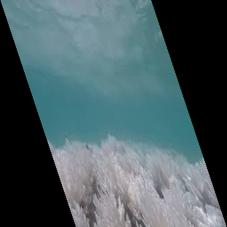bleached_corals: (52, 138, 226, 227)
